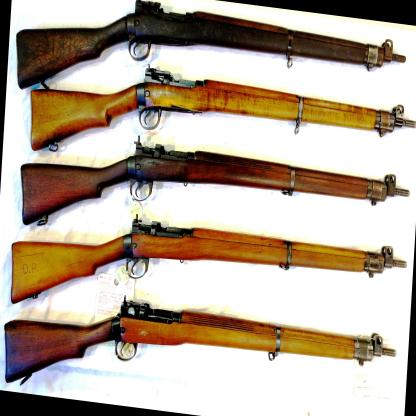rifle: (11, 258, 412, 413), (15, 166, 416, 320), (33, 0, 415, 63)
